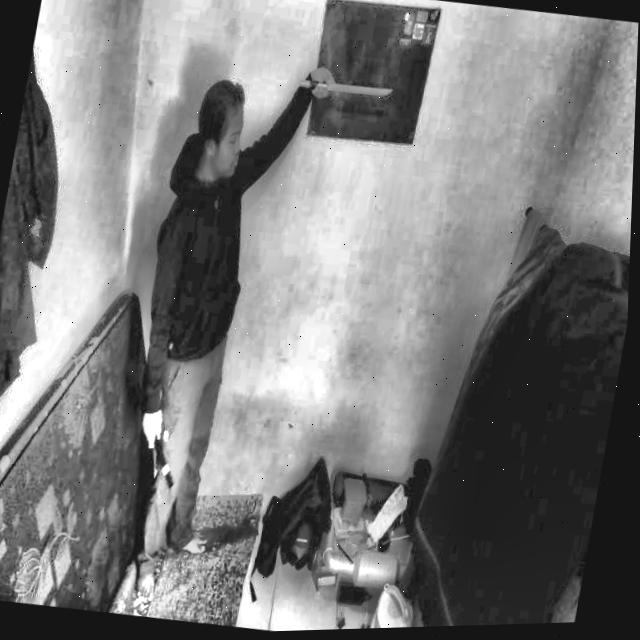pisau: (281, 59, 400, 124)
